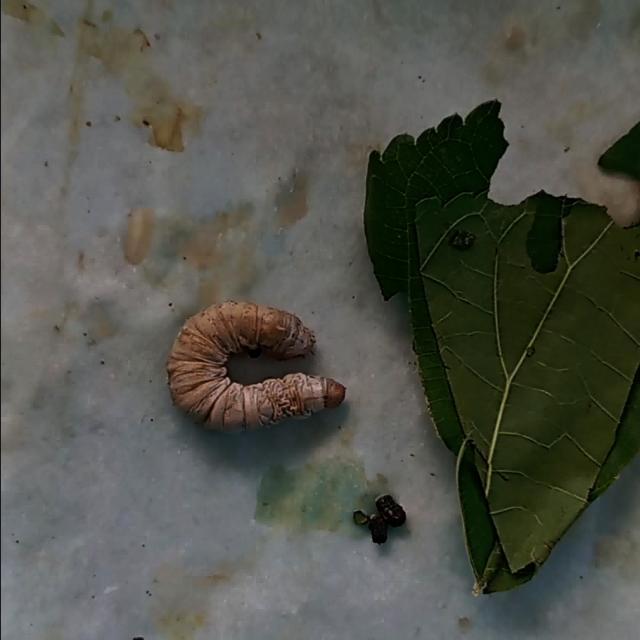Grasserie: (154, 289, 357, 437)
